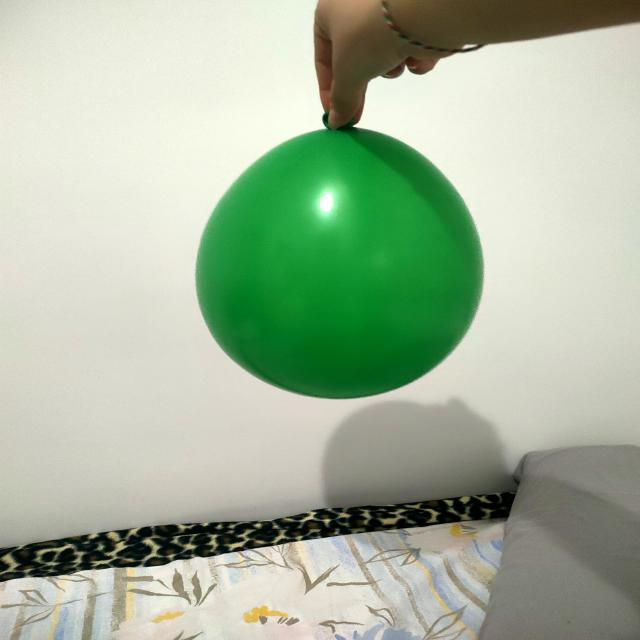green: (197, 128, 487, 401)
